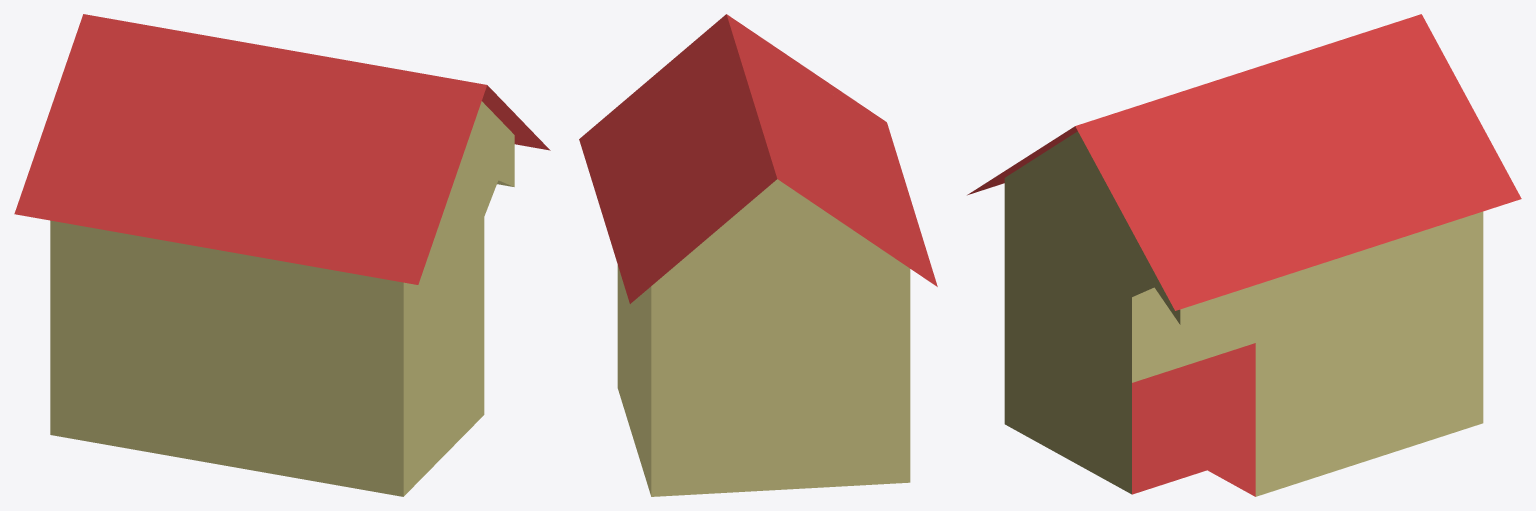
3 views of the same model, side by side, from view 1: azimuth 30°, elevation 25°; view 2: azimuth 150°, elevation 25°; view 3: azimuth 270°, elevation 25° (orthographic). The views are drawn at different scales.
Bounding box in the file's own units: 19.69 × 20.32 × 14.37.
